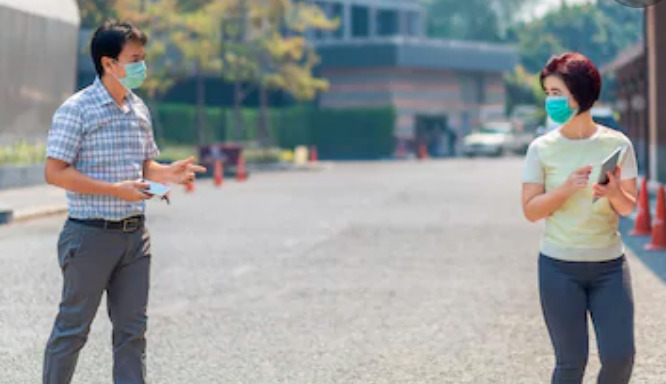Caution: (44, 21, 638, 384)
